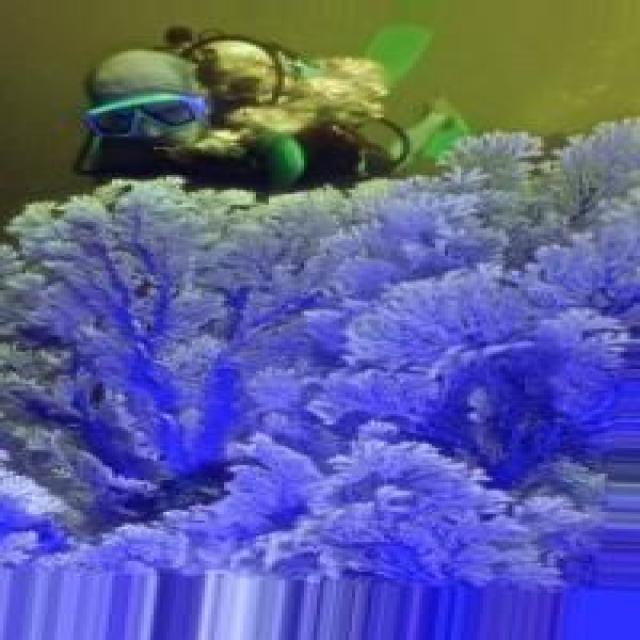Bleached: (8, 121, 639, 580)
